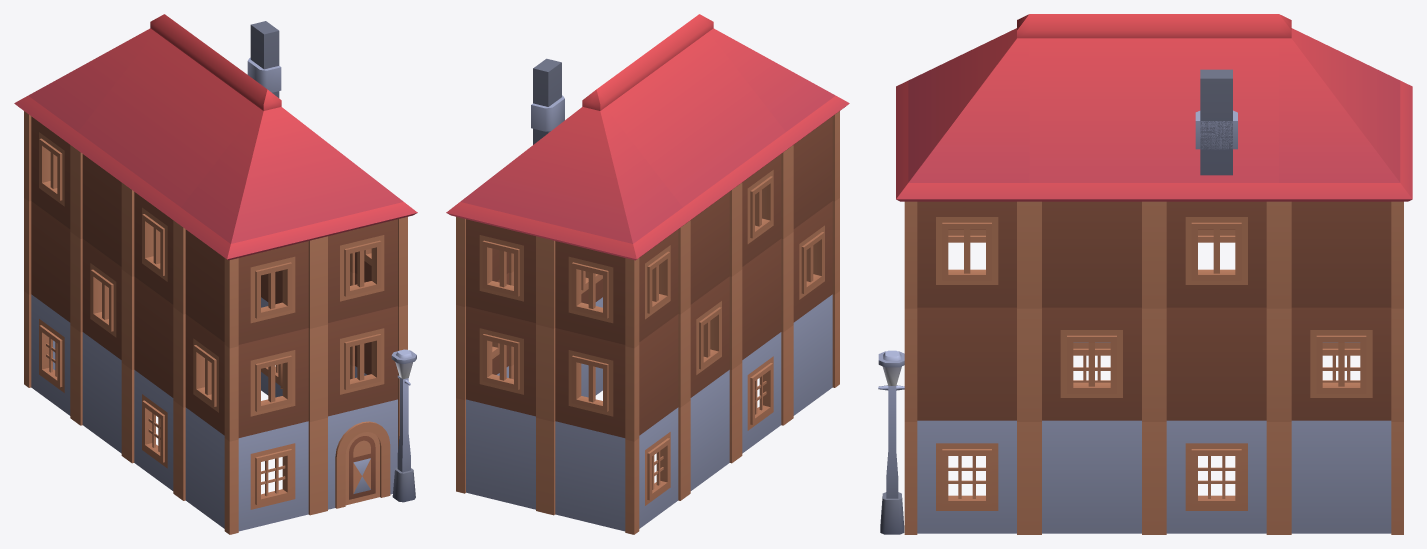
The model's file is inn.glb.
3 views of the same model, side by side, from view 1: azimuth 30°, elevation 25°; view 2: azimuth 150°, elevation 25°; view 3: azimuth 270°, elevation 25° (orthographic). The views are drawn at different scales.
Visible parts, largest first — view 1: inn; view 2: inn; view 3: inn.
Boxes of the visible parts, x1,y1,x2,y2 form: inn: (14, 14, 417, 534); inn: (446, 14, 849, 534); inn: (878, 14, 1412, 534).
Bounding box in the file's own units: 6.42 × 12.42 × 12.85.
Materials: 46 (46 with a texture image).
